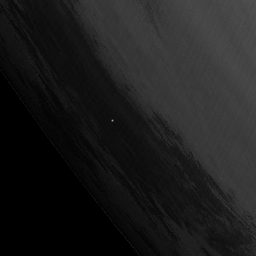Target: (109, 117, 116, 123)
